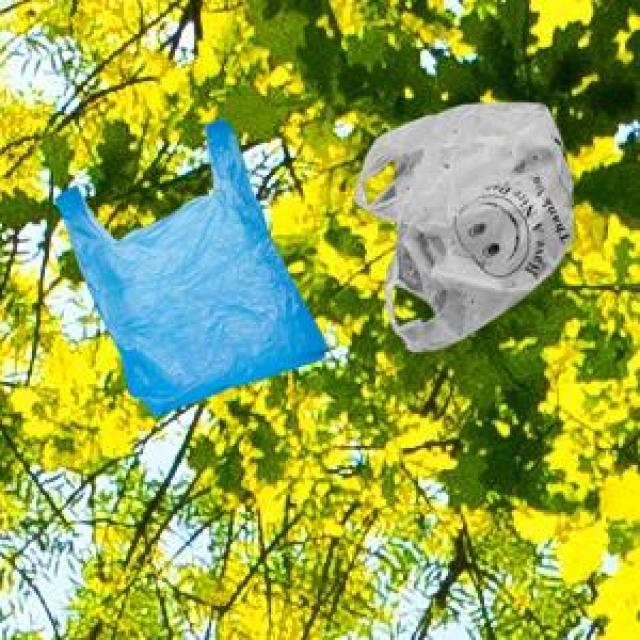Plastic_Bag: (52, 116, 323, 413), (351, 99, 571, 349)
